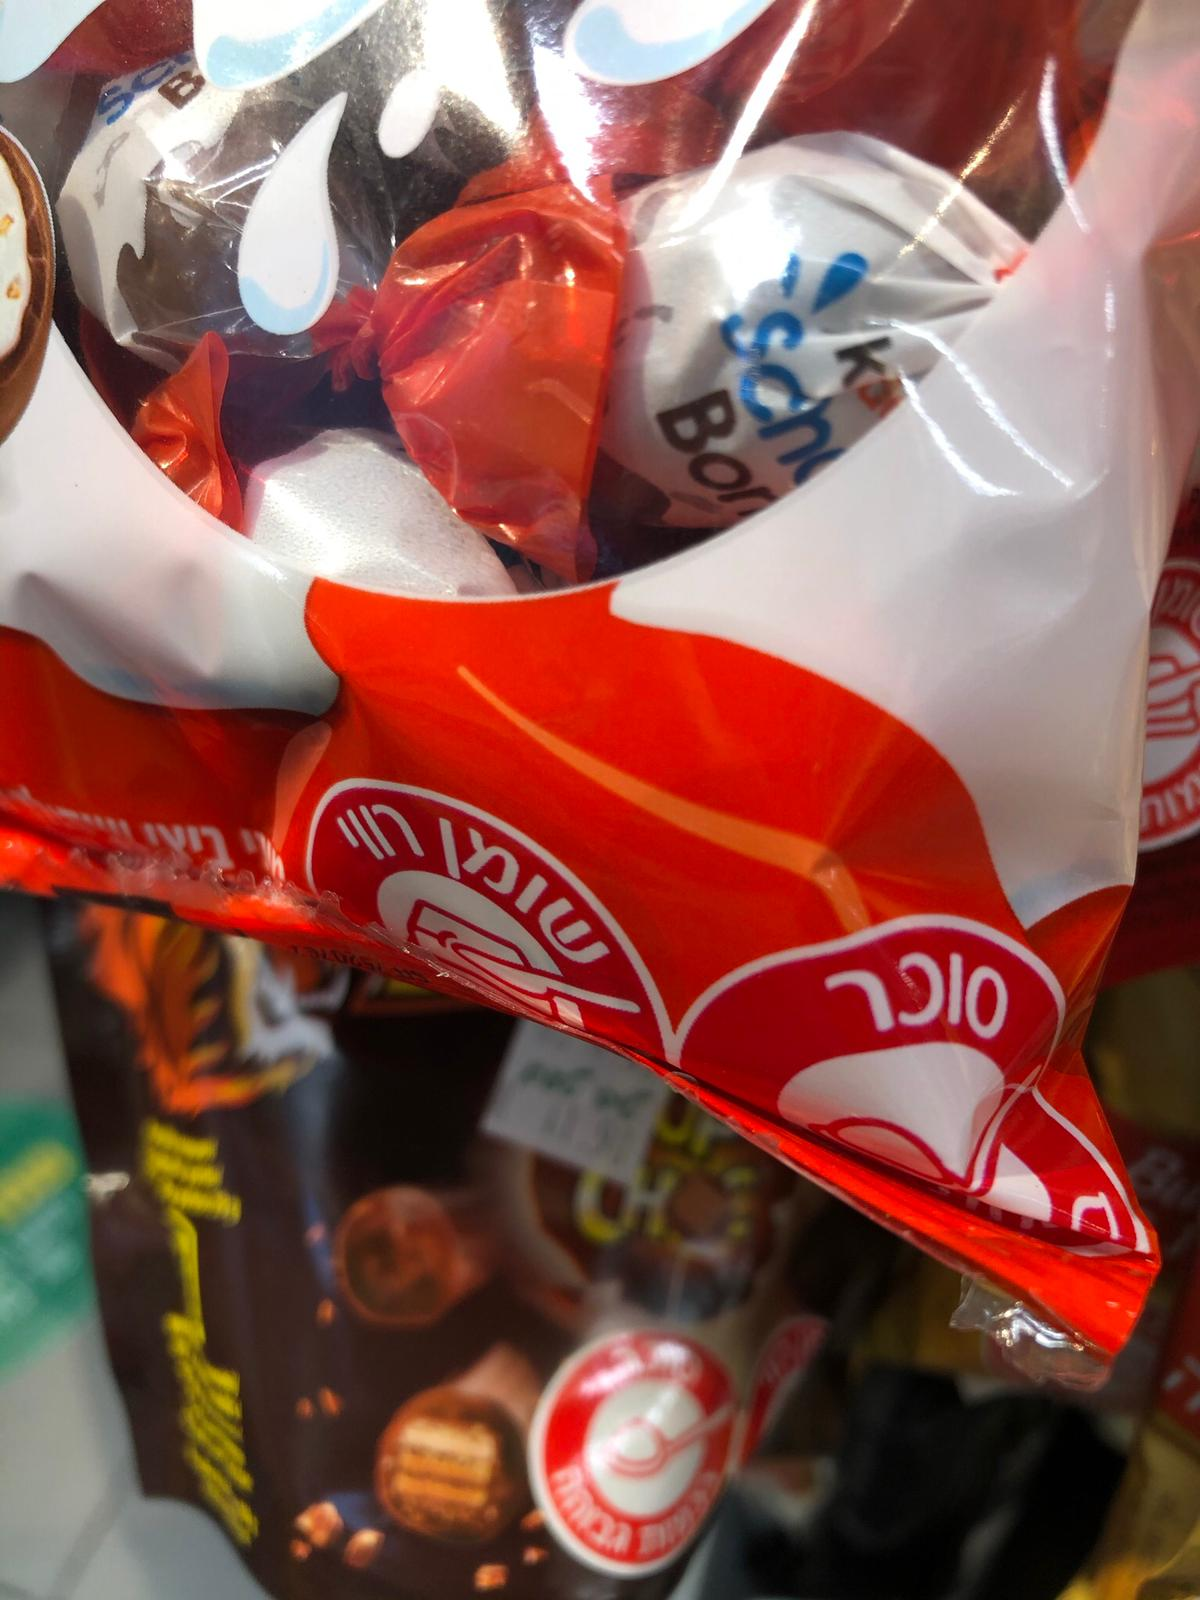fat: (303, 776, 677, 1078)
sugar: (674, 915, 1152, 1261), (522, 1327, 744, 1575)
